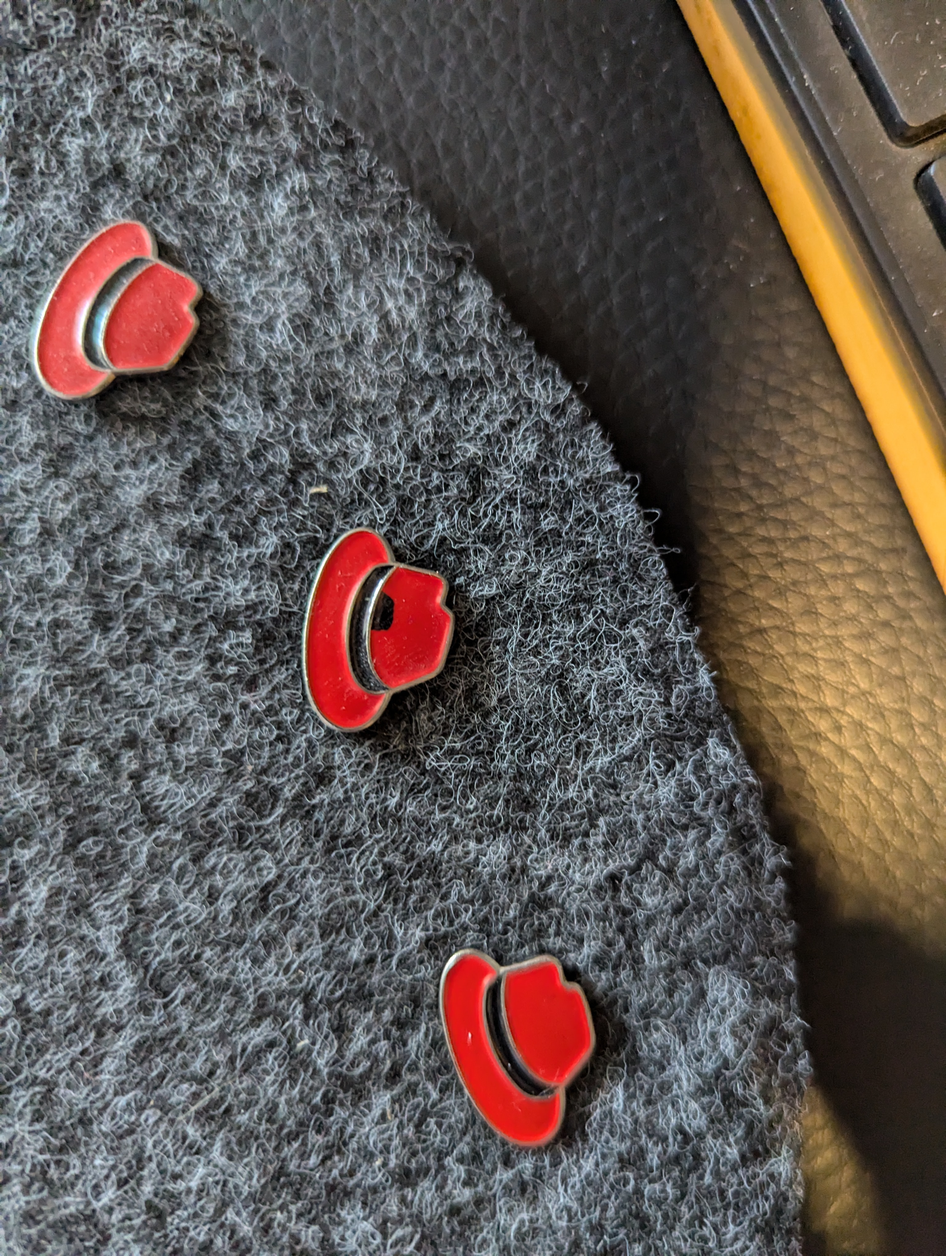Red-Hat: (14, 177, 229, 429), (395, 928, 632, 1153), (296, 496, 480, 778)
Scratch: (355, 574, 417, 638)
